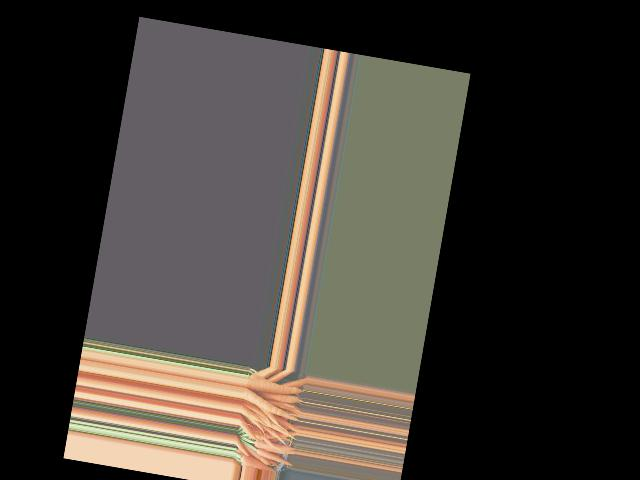carrot: (238, 455, 273, 472)
